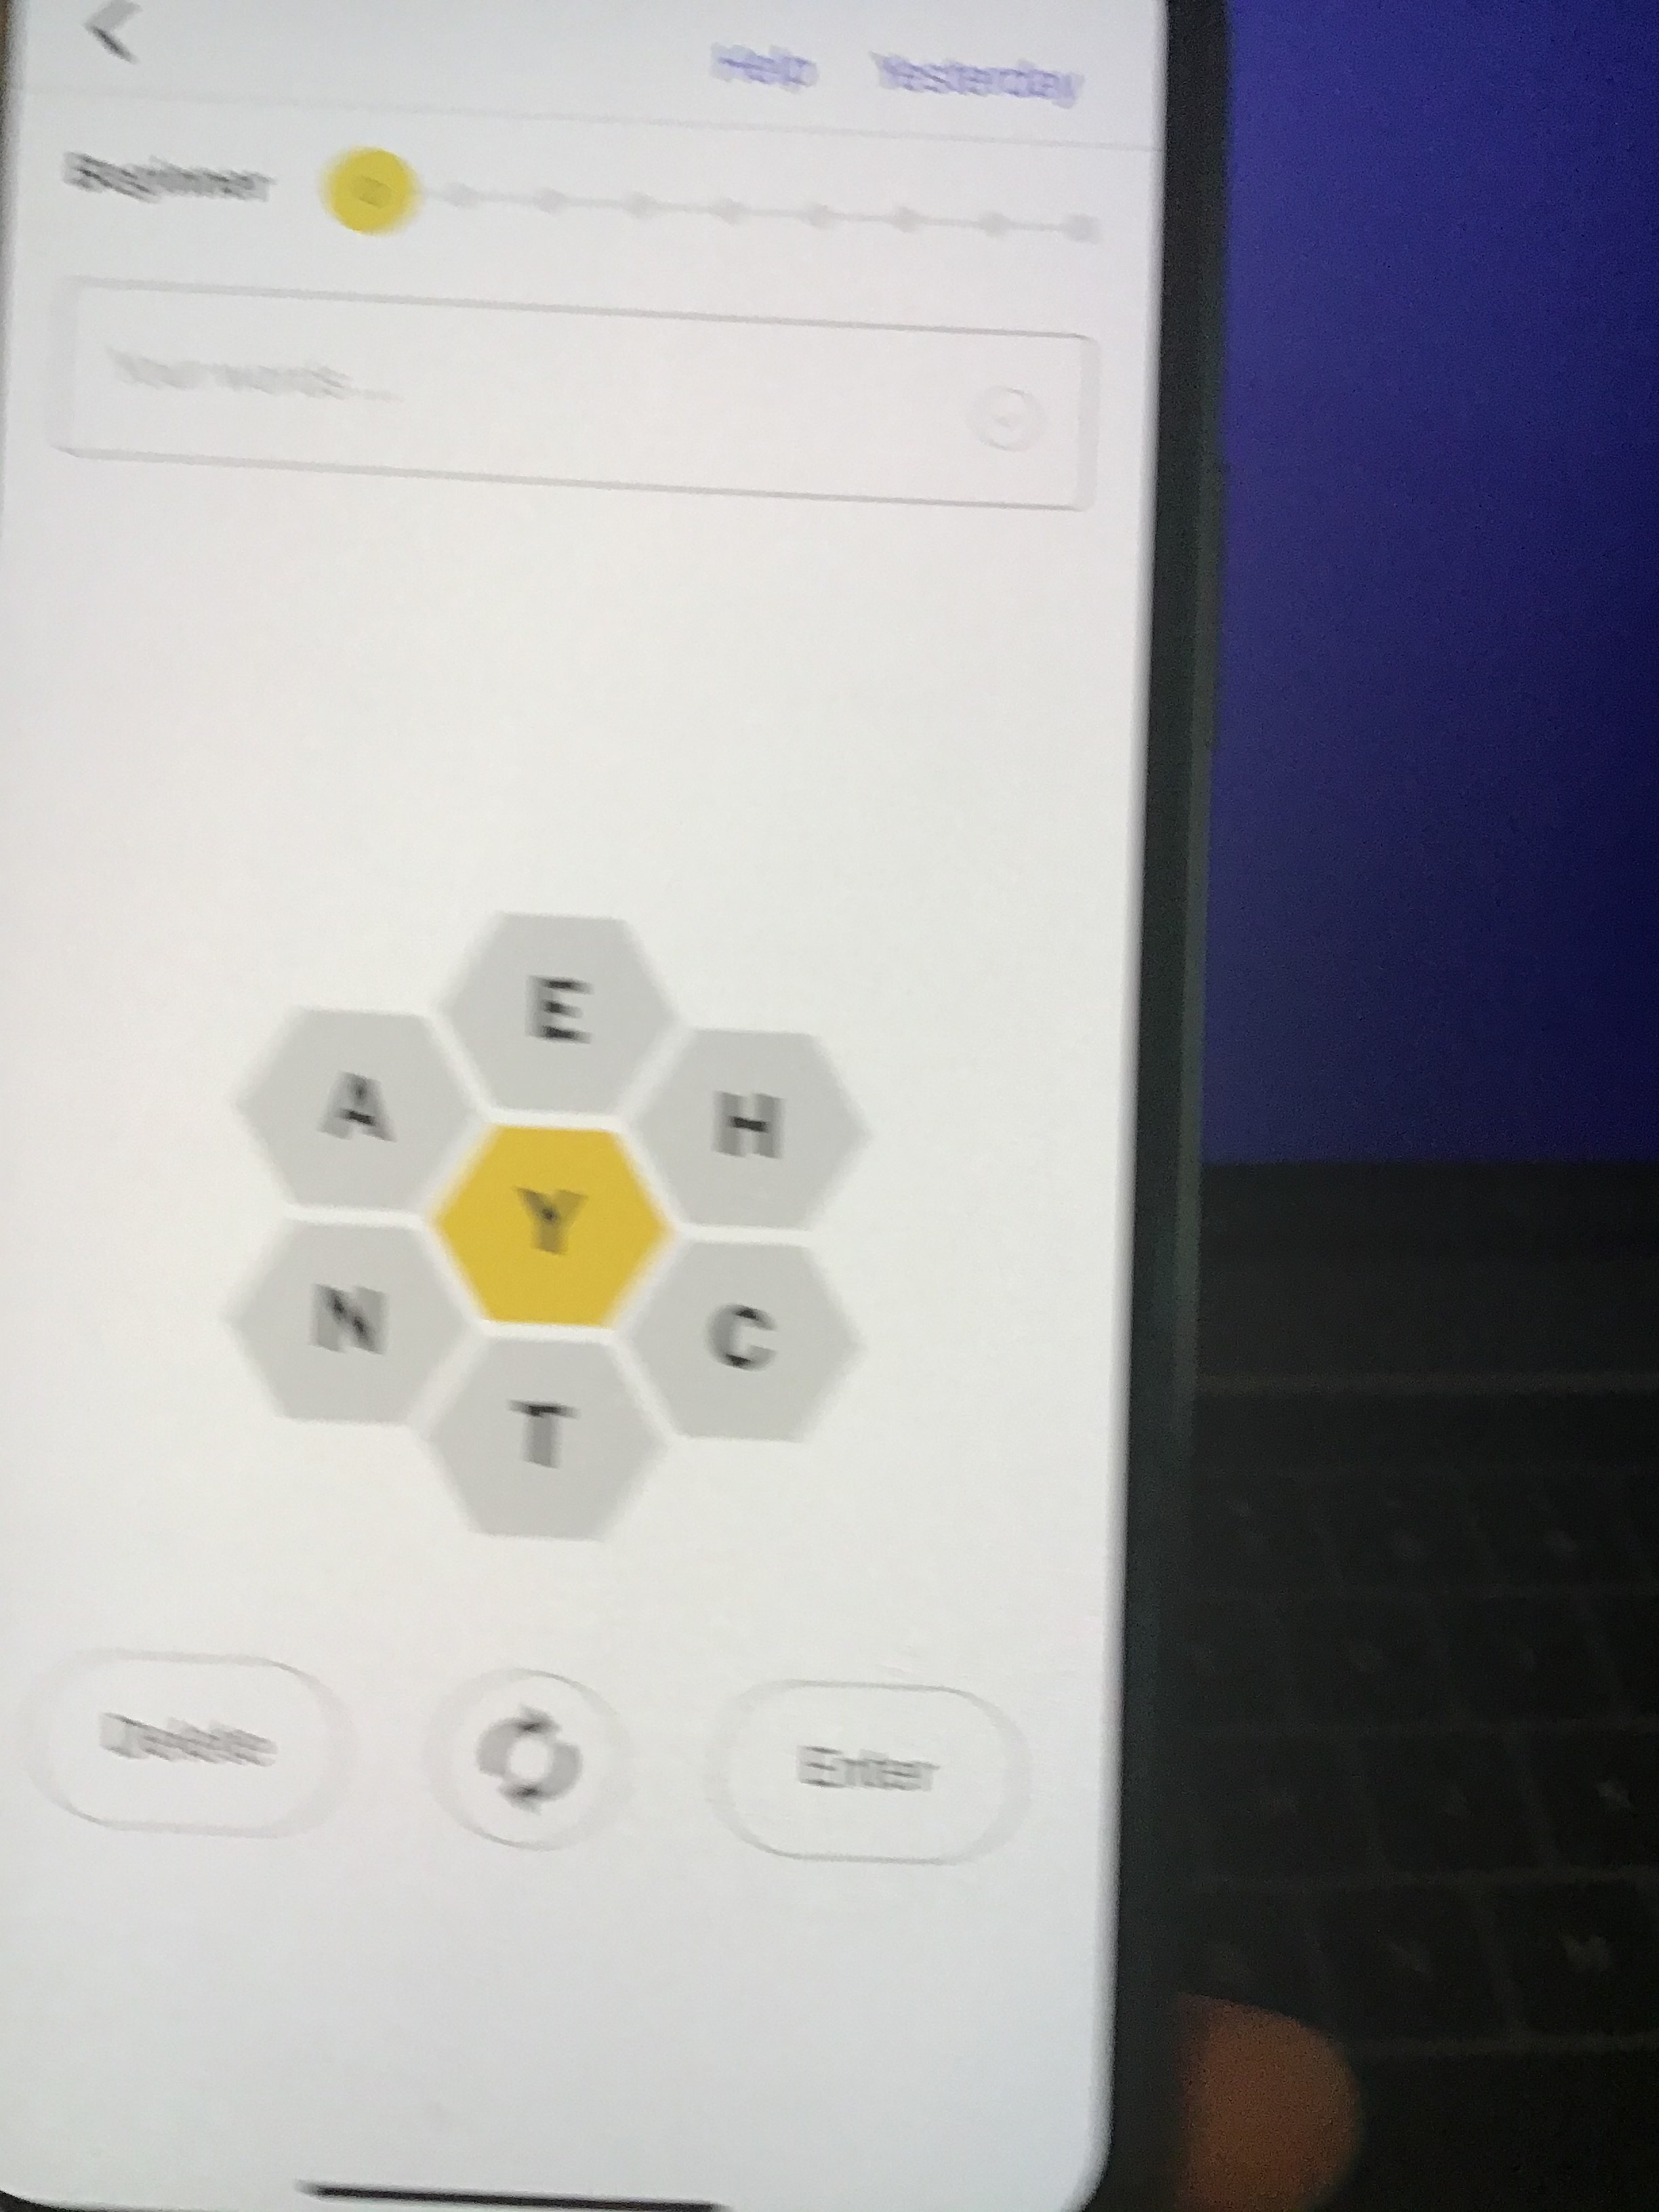Board: (141, 829, 969, 1635)
